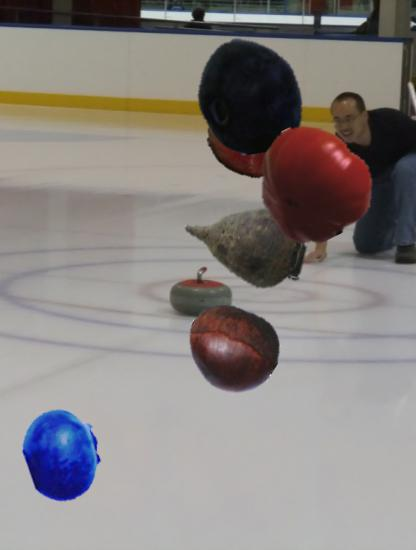Beetroot: (183, 180, 309, 306)
Blueberry: (191, 37, 308, 154)
Chestnut: (184, 301, 279, 396)
Huckleberry: (16, 408, 110, 502)
Peach: (207, 97, 292, 182)
Tomato: (255, 122, 374, 241)
